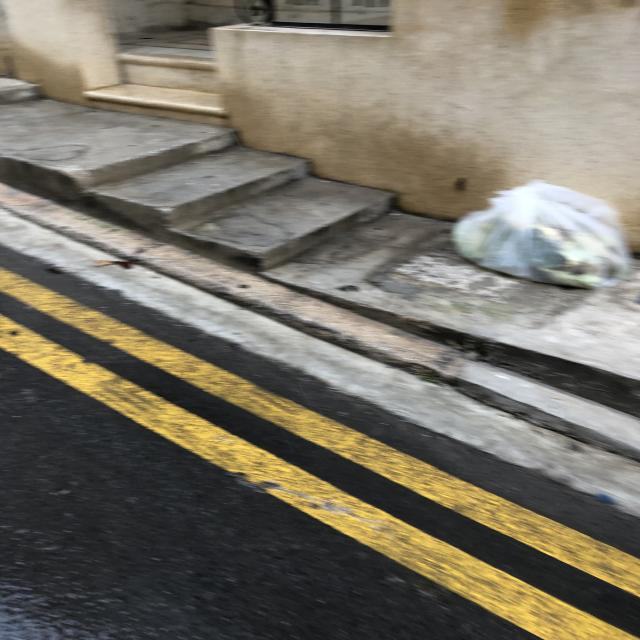Organic Waste -White Bag-: (456, 181, 630, 293)
